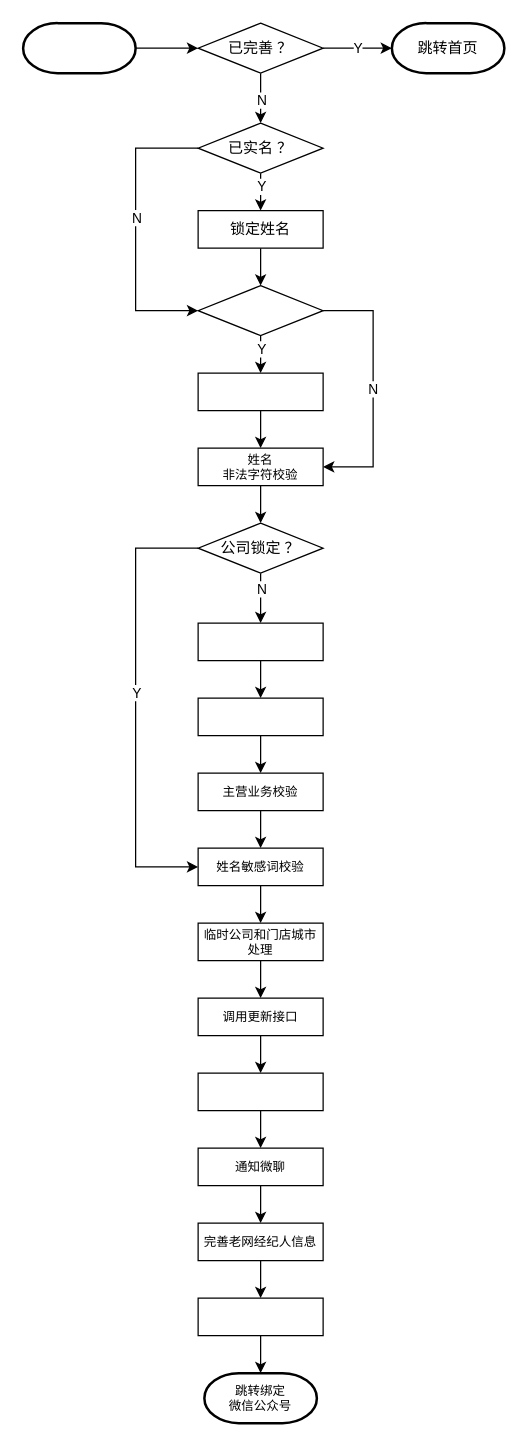
The diagram is 526 pixels wide and 1445 high, and some of its shapes have lost their labels. Here are the shapes that lost their labels. From the top down, the centre of each, then its label:
the point at 78,47: 填写个人信息
the point at 260,310: 巧房邀请 ？
the point at 260,391: 锁定公司
the point at 260,641: 独立经纪人城市校验
the point at 260,716: 公司、门店城市校验
the point at 260,1091: 更新 Cookie (真实姓名、城市 id)
the point at 260,1316: 推送 App 消息
